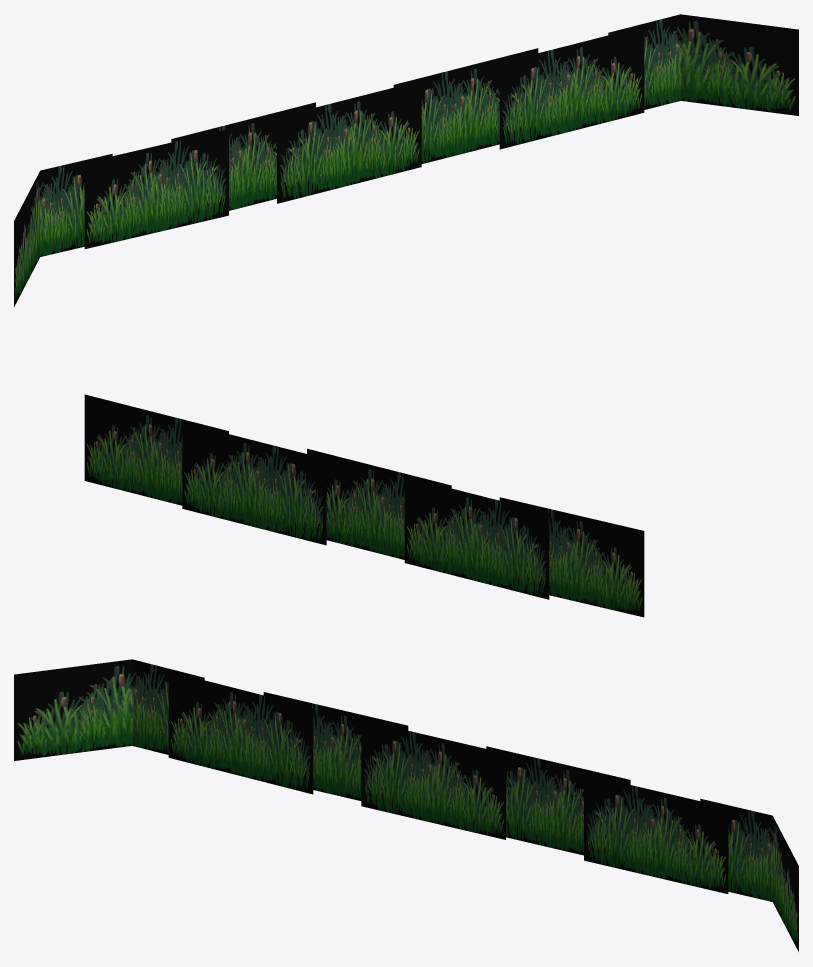
The model's file is grass_3_1.gltf.
3 views of the same model, one above another, from view 1: azimuth 30°, elevation 25°; view 2: azimuth 150°, elevation 25°; view 3: azimuth 330°, elevation 25° (orthographic).
Parts seen in each view (by area): view 1: Grass3Mesh; view 2: Grass3Mesh; view 3: Grass3Mesh.
Part boxes in pixels (bbox=[...]): Grass3Mesh: bbox=[14, 14, 798, 306]; Grass3Mesh: bbox=[84, 394, 644, 617]; Grass3Mesh: bbox=[14, 659, 798, 951].
Size of the model in its own units: 16.33 by 1.75 by 1.67.
Materials: 1 (1 with a texture image).
